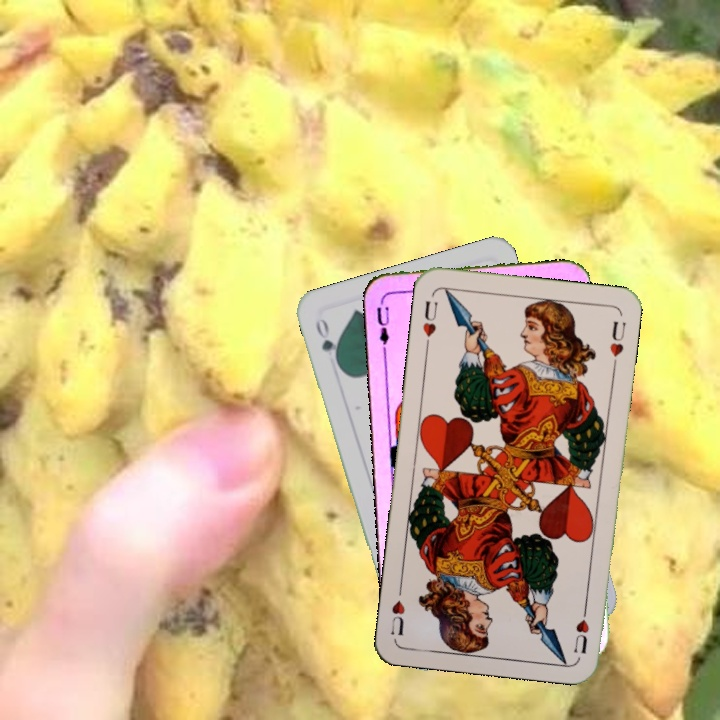EU: (373, 302, 392, 354)
GO: (311, 314, 342, 370)
HU: (570, 600, 592, 656), (419, 296, 441, 350)
